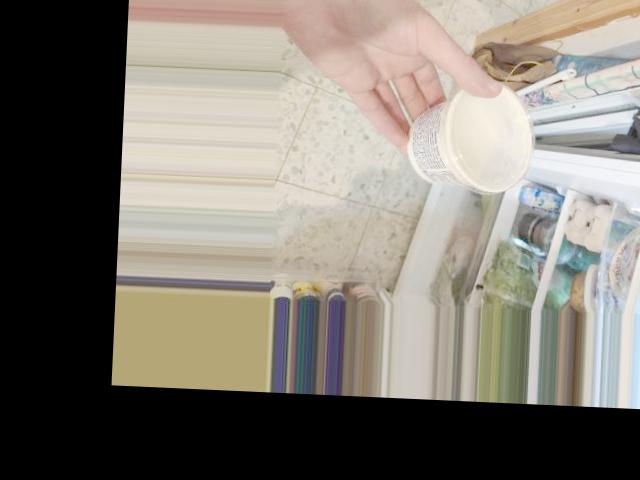cotage: (404, 82, 528, 187)
